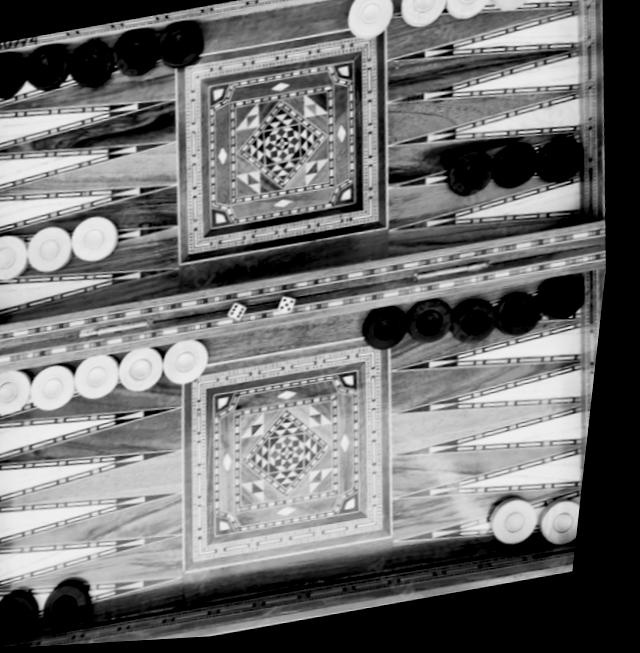bar: (0, 232, 595, 375)
board: (0, 0, 640, 653)
dark_p: (356, 302, 422, 369), (440, 149, 506, 210), (0, 583, 59, 647), (47, 576, 112, 634), (104, 25, 164, 86), (18, 37, 79, 97), (407, 297, 466, 357), (497, 293, 557, 352), (151, 18, 212, 76), (540, 274, 599, 332), (64, 34, 121, 94), (535, 138, 595, 194), (452, 299, 509, 357), (491, 145, 545, 199), (0, 47, 33, 105)
dice: (278, 295, 308, 323), (229, 302, 258, 328)
light_p: (166, 336, 225, 395), (72, 212, 129, 266), (34, 360, 88, 417), (336, 0, 400, 48), (498, 502, 553, 556), (29, 223, 83, 277), (77, 353, 133, 405), (123, 346, 175, 399), (546, 503, 593, 558), (0, 366, 44, 420), (0, 230, 38, 284), (396, 0, 451, 35), (442, 0, 496, 27), (485, 0, 541, 21), (530, 0, 585, 12)
